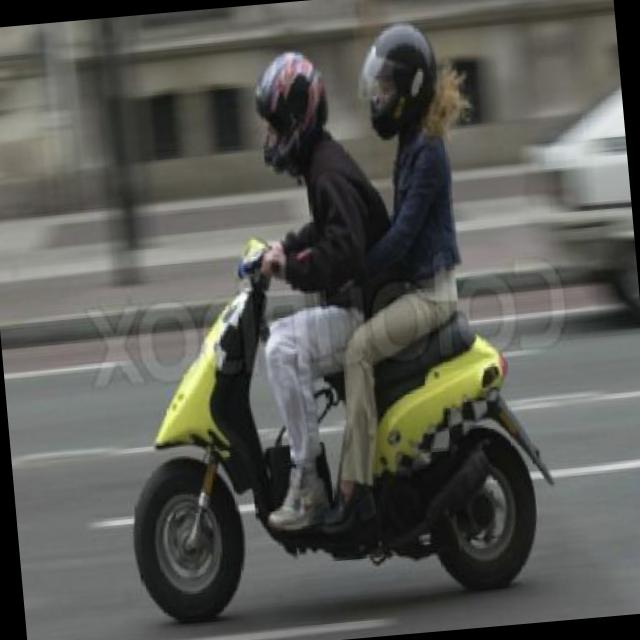With Helmet: (354, 14, 446, 150), (248, 46, 332, 180)
